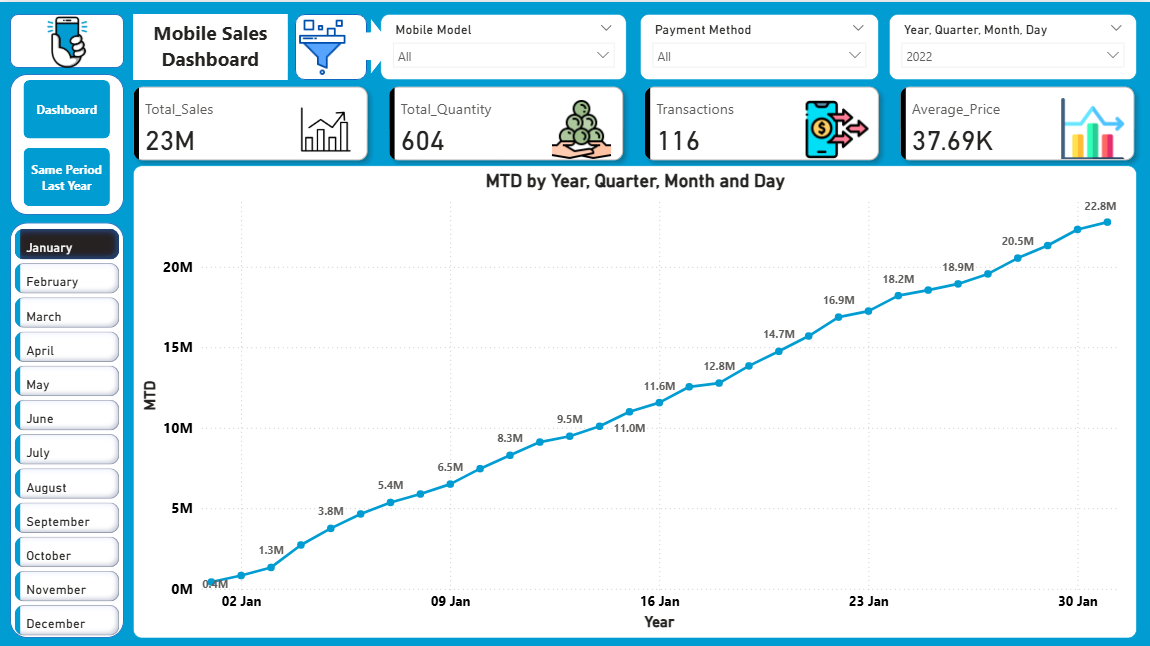

This screenshot's page, from the dashboard's own definition file:
{"tool":"powerbi","page":{"name":"MTD Report","canvas":[1280,720],"ordinal":1},"visuals":[{"type":"shape","box":[13.3,13.3,126.7,60],"z":0},{"type":"image","box":[21.7,1.7,110,85],"z":1000},{"type":"shape","box":[13.3,80,126.7,156.7],"z":2000},{"type":"cardVisual","fields":{"Data":["Mobile_Sales_Data.Total_Sales","Mobile_Sales_Data.Total_Quantity","Mobile_Sales_Data.Transactions","Mobile_Sales_Data.Average_Price"]},"box":[133.3,76.7,1146.7,116.7],"z":3000},{"type":"slicer","fields":{"Values":["Mobile_Sales_Data.Mobile Model"]},"box":[425,13.3,273.3,73.3],"z":4000},{"type":"slicer","fields":{"Values":["Mobile_Sales_Data.Payment Method"]},"box":[713.3,13.3,265,73.3],"z":5000},{"type":"slicer","fields":{"Values":["Custom_Calendar.Date.Variation.Date Hierarchy.Year","Custom_Calendar.Date.Variation.Date Hierarchy.Quarter","Custom_Calendar.Date.Variation.Date Hierarchy.Month","Custom_Calendar.Date.Variation.Date Hierarchy.Day"]},"box":[990,13.3,275,73.3],"z":6000},{"type":"shape","box":[330,13.3,80,73.3],"z":7000},{"type":"image","box":[310,13.3,100,73.3],"z":8000},{"type":"shape","box":[390,18.3,48.3,61.7],"z":9000},{"type":"shape","box":[150,13.3,171.7,73.3],"z":10000},{"type":"textbox","box":[150,13.3,171.7,73.3],"z":11000},{"type":"lineChart","fields":{"Y":["Mobile_Sales_Data.MTD"],"Category":["Custom_Calendar.Date.Variation.Date Hierarchy.Year","Custom_Calendar.Date.Variation.Date Hierarchy.Quarter","Custom_Calendar.Date.Variation.Date Hierarchy.Month","Custom_Calendar.Date.Variation.Date Hierarchy.Day"]},"box":[150,181.7,1115,525],"z":12000},{"type":"shape","box":[13.3,245,126.7,461.7],"z":13000},{"type":"advancedSlicerVisual","fields":{"Values":["Custom_Calendar.Date.Variation.Date Hierarchy.Month"]},"box":[13.3,246.7,126.7,473.3],"z":14000},{"type":"pageNavigator","box":[28.3,86.7,96.7,141.7],"z":14001}]}

Visuals, with their boxes in screenshot pixels (x1, y1, x2, y2), scaled from the page's 1280x720 canvas onto the 1150x646 screenshot:
shape: 12 12 126 66
image: 19 2 118 78
shape: 12 72 126 212
cardVisual - Mobile_Sales_Data.Total_Sales x Mobile_Sales_Data.Total_Quantity: 120 69 1149 174
slicer - Mobile_Sales_Data.Mobile Model: 382 12 627 78
slicer - Mobile_Sales_Data.Payment Method: 641 12 879 78
slicer - Custom_Calendar.Date.Variation.Date Hierarchy.Year x Custom_Calendar.Date.Variation.Date Hierarchy.Quarter: 889 12 1137 78
shape: 296 12 368 78
image: 279 12 368 78
shape: 350 16 394 72
shape: 135 12 289 78
textbox: 135 12 289 78
lineChart - Mobile_Sales_Data.MTD x Custom_Calendar.Date.Variation.Date Hierarchy.Year: 135 163 1137 634
shape: 12 220 126 634
advancedSlicerVisual - Custom_Calendar.Date.Variation.Date Hierarchy.Month: 12 221 126 645
pageNavigator: 25 78 112 205
